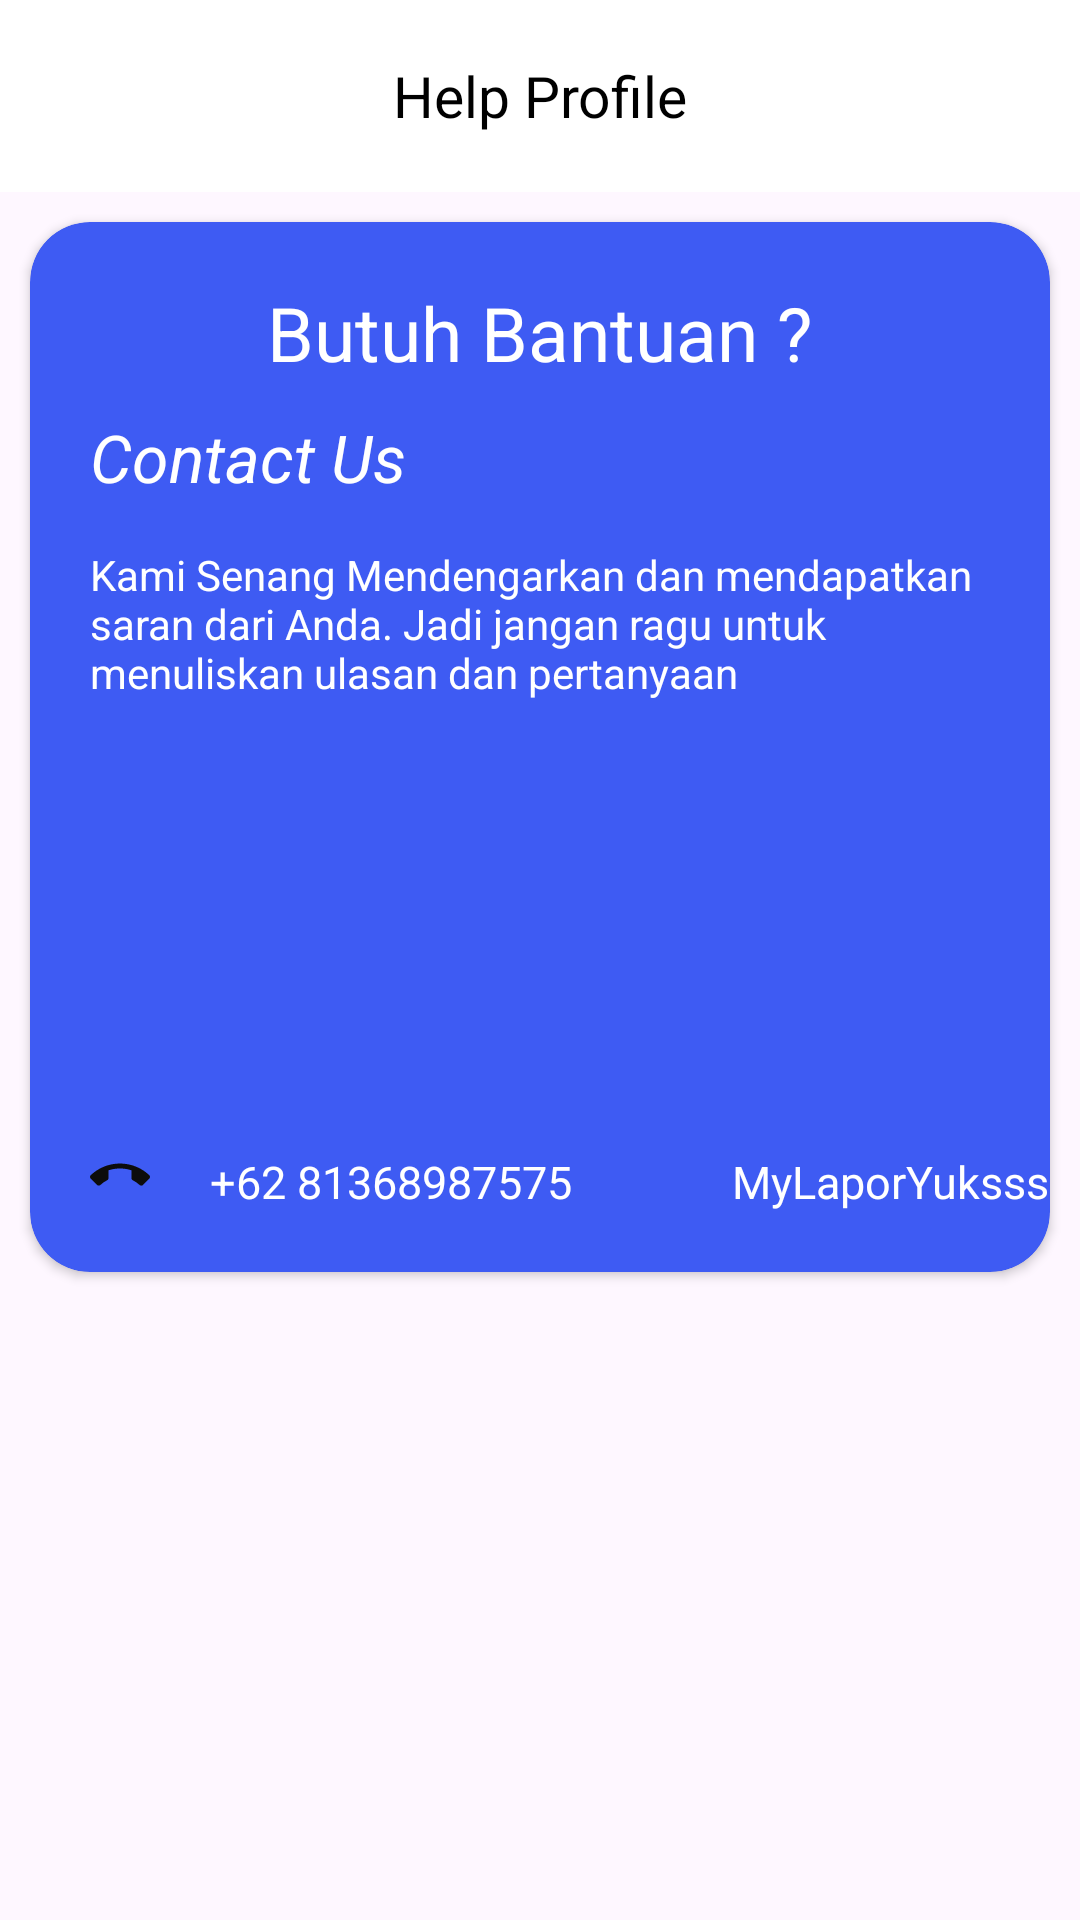

Point at icon controls on the screen. Image size 1080w x 1920h, points as [x,y].
call end: [120,1174]
